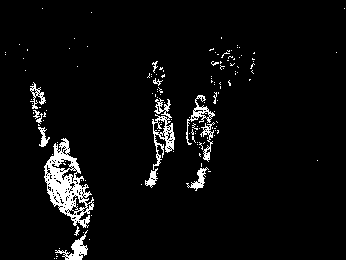person: (42, 137, 95, 259), (187, 93, 220, 190), (145, 98, 175, 188), (28, 82, 52, 148), (147, 59, 167, 97)
